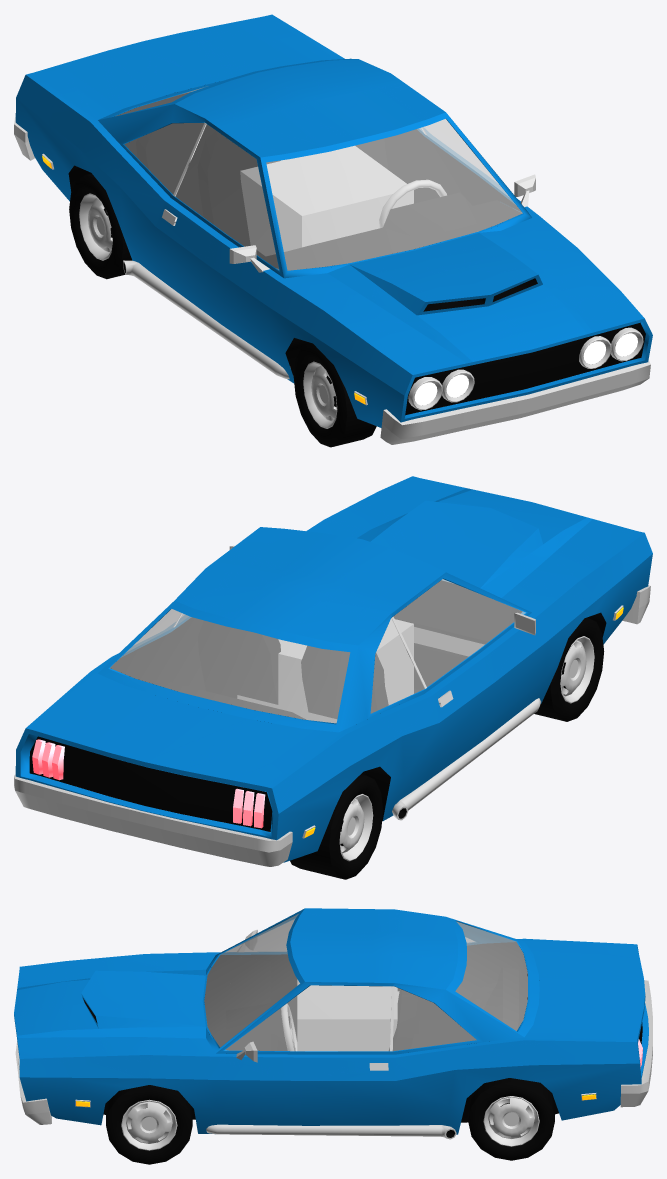
Rendered from car_blue.glb.
The picture shows the model from 3 angles, top to bottom: view 1: azimuth 30°, elevation 25°; view 2: azimuth 150°, elevation 25°; view 3: azimuth 270°, elevation 25°; orthographic projection. The views are drawn at different scales.
Parts seen in each view (by area): view 1: Object_4, Cube, Object_6, Object_13, Object_8; view 2: Object_4, Cube, Object_6, Object_13, Object_7; view 3: Object_4, Cube, Object_6, Object_13.
Part boxes in pixels (bbox=[...]): Object_4: bbox=[15, 14, 652, 427]; Cube: bbox=[68, 92, 645, 447]; Object_6: bbox=[117, 86, 522, 270]; Object_13: bbox=[14, 117, 650, 444]; Object_8: bbox=[414, 333, 637, 405]; Object_4: bbox=[15, 476, 652, 862]; Cube: bbox=[29, 580, 606, 879]; Object_6: bbox=[110, 579, 525, 723]; Object_13: bbox=[14, 545, 650, 866]; Object_7: bbox=[32, 739, 265, 828]; Object_4: bbox=[14, 908, 648, 1134]; Cube: bbox=[83, 942, 642, 1164]; Object_6: bbox=[204, 914, 527, 1051]; Object_13: bbox=[15, 929, 652, 1150].
Size of the model in its own units: 5.46 by 3.6 by 12.16.
Materials: 7 (7 with a texture image).
